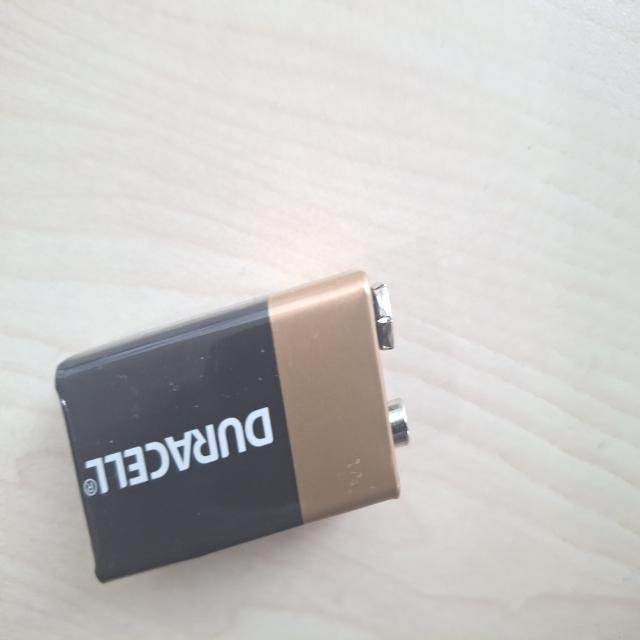9V: (200, 309, 436, 640)
